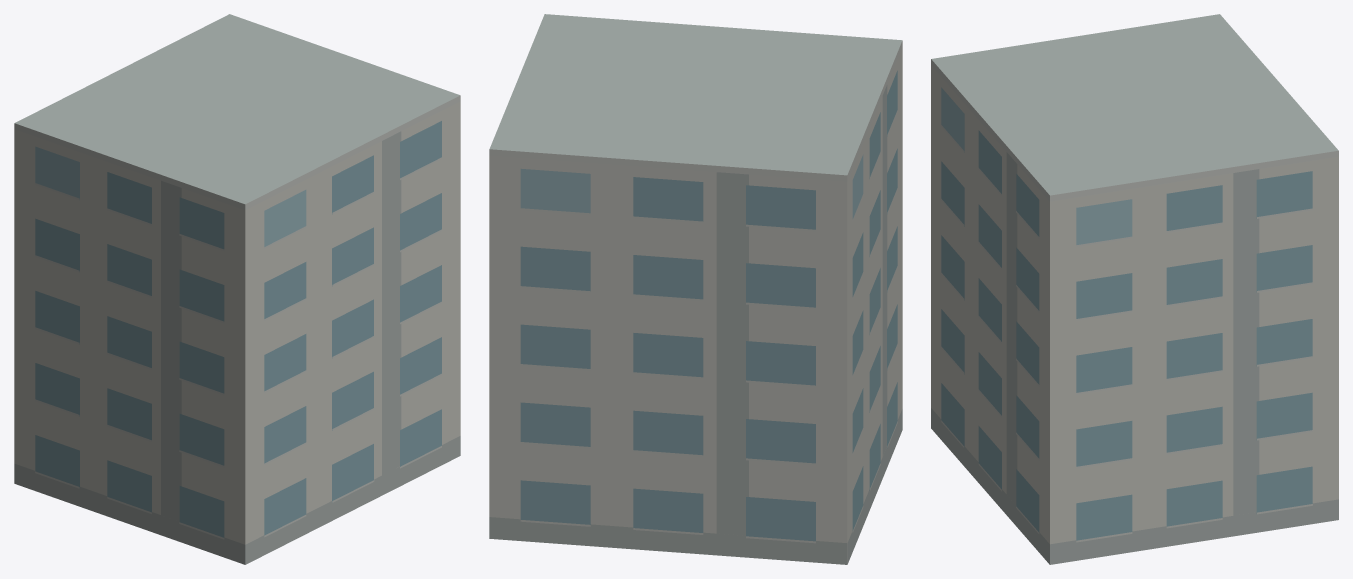
Rendered from residential-52de4185-de1a-42f1-91a4-6aae27568012.glb.
The picture shows the model from 3 angles, left to right: view 1: azimuth 30°, elevation 25°; view 2: azimuth 150°, elevation 25°; view 3: azimuth 270°, elevation 25°; orthographic projection. The views are drawn at different scales.
Parts seen in each view (by area): view 1: residential-52de4185-de1a-42f1-91a4-6aae27568012.tmp; view 2: residential-52de4185-de1a-42f1-91a4-6aae27568012.tmp; view 3: residential-52de4185-de1a-42f1-91a4-6aae27568012.tmp.
Boxes of the visible parts, left/top/right/bottom form: residential-52de4185-de1a-42f1-91a4-6aae27568012.tmp: left=14, top=14, right=460, bottom=564; residential-52de4185-de1a-42f1-91a4-6aae27568012.tmp: left=489, top=14, right=902, bottom=564; residential-52de4185-de1a-42f1-91a4-6aae27568012.tmp: left=931, top=14, right=1338, bottom=564.
Size of the model in its own units: 15.82 by 15 by 15.02.
